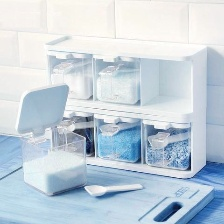plastic_box: (37, 27, 212, 184), (8, 79, 92, 201)
